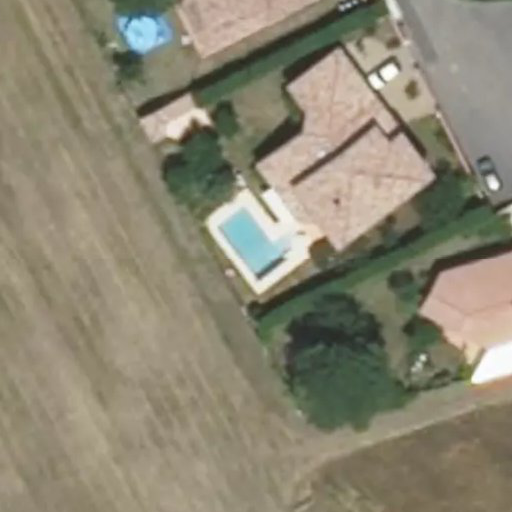pool: (222, 223, 289, 260)
